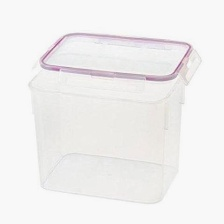plastic_box: (19, 23, 207, 208)
